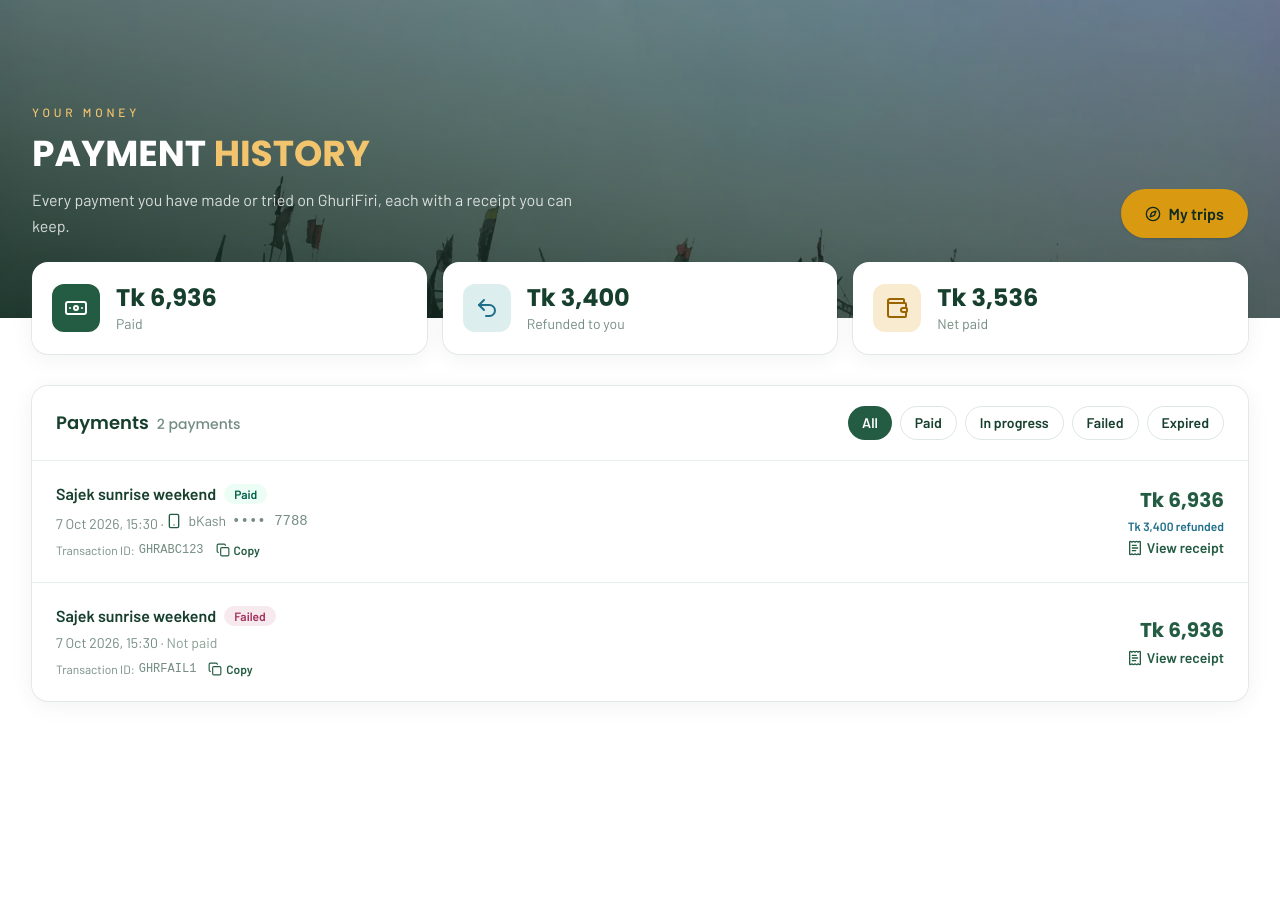
payment history › copies a transaction ID to quote to support
The image size is (1280, 900).
Expected: the text "GHRABC123" is shown, [139, 542, 204, 558]
Click the button "Copy" next to "GHRABC123".
click(238, 550)  # box [208, 538, 268, 562]
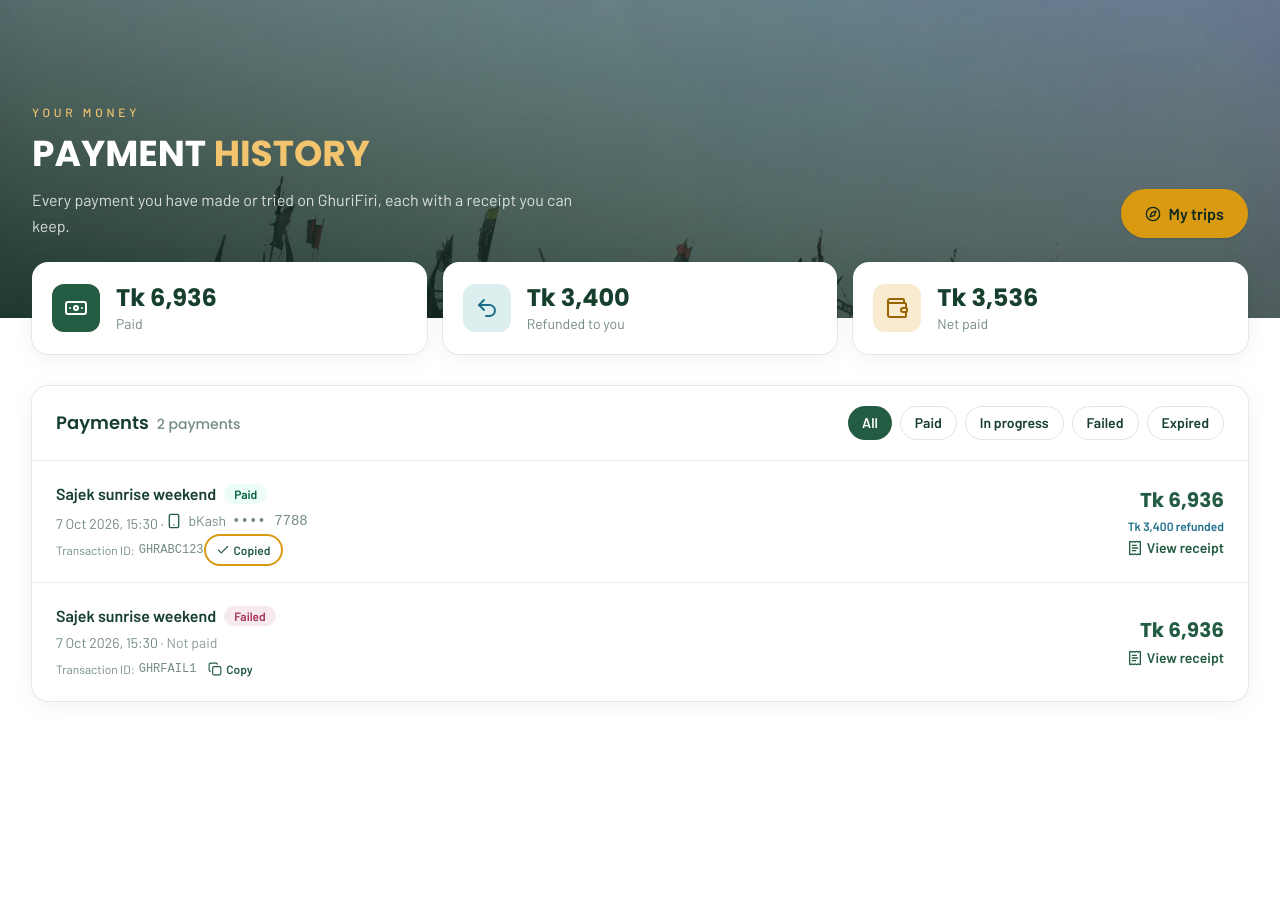
Now the text "Copied" is shown, box [234, 542, 270, 558]
